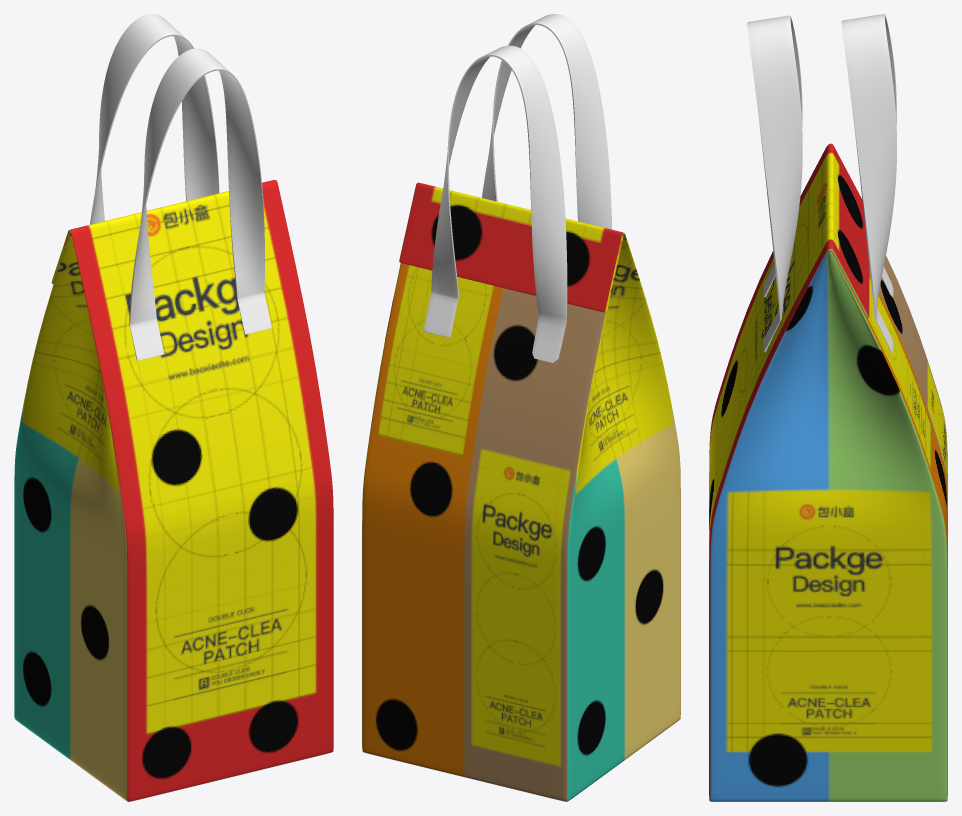
The picture shows the model from 3 angles, left to right: view 1: azimuth 30°, elevation 25°; view 2: azimuth 150°, elevation 25°; view 3: azimuth 270°, elevation 25°; orthographic projection. The views are drawn at different scales.
Visible parts, largest first — view 1: 贴图, 手提绳; view 2: 贴图, 手提绳; view 3: 贴图, 手提绳.
Boxes of the visible parts, box(x1,y1,x2,y2) form: 贴图: box(14, 180, 333, 801); 手提绳: box(90, 14, 271, 360); 贴图: box(362, 182, 680, 801); 手提绳: box(423, 14, 612, 362); 贴图: box(709, 143, 947, 801); 手提绳: box(747, 14, 896, 353).
Bounding box in the file's own units: 115 × 372 × 110.
3 materials, 1 textured.
